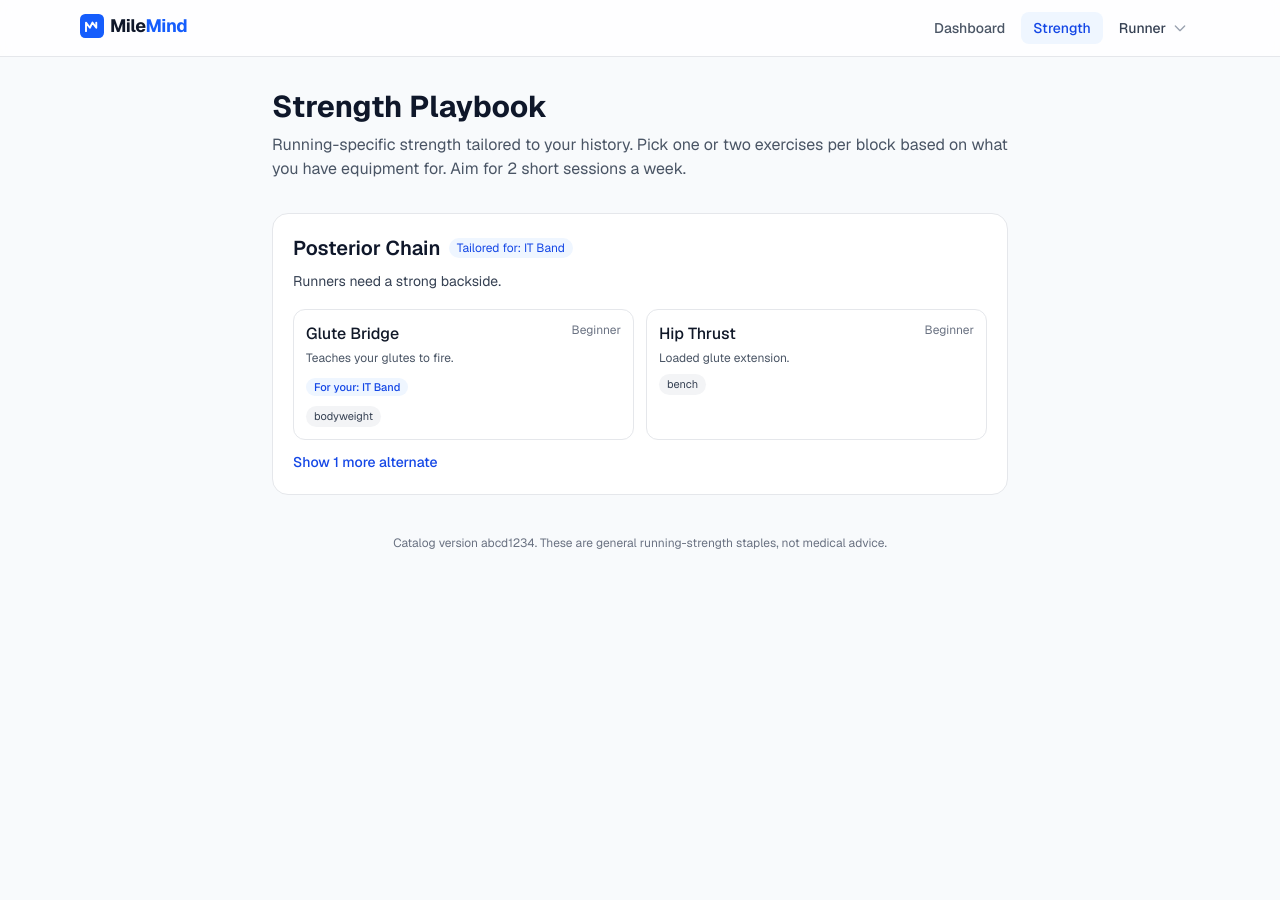
Test case: StrengthPage › shows the first two exercises by default and hides the rest behind a toggle
Expected: the link "Glute Bridge" is shown, [306,322,399,346]
Expected: the link "Hip Thrust" is shown, [659,322,736,346]
Click the button "Show 1 more alternate".
click(365, 462)  # box [293,452,438,472]
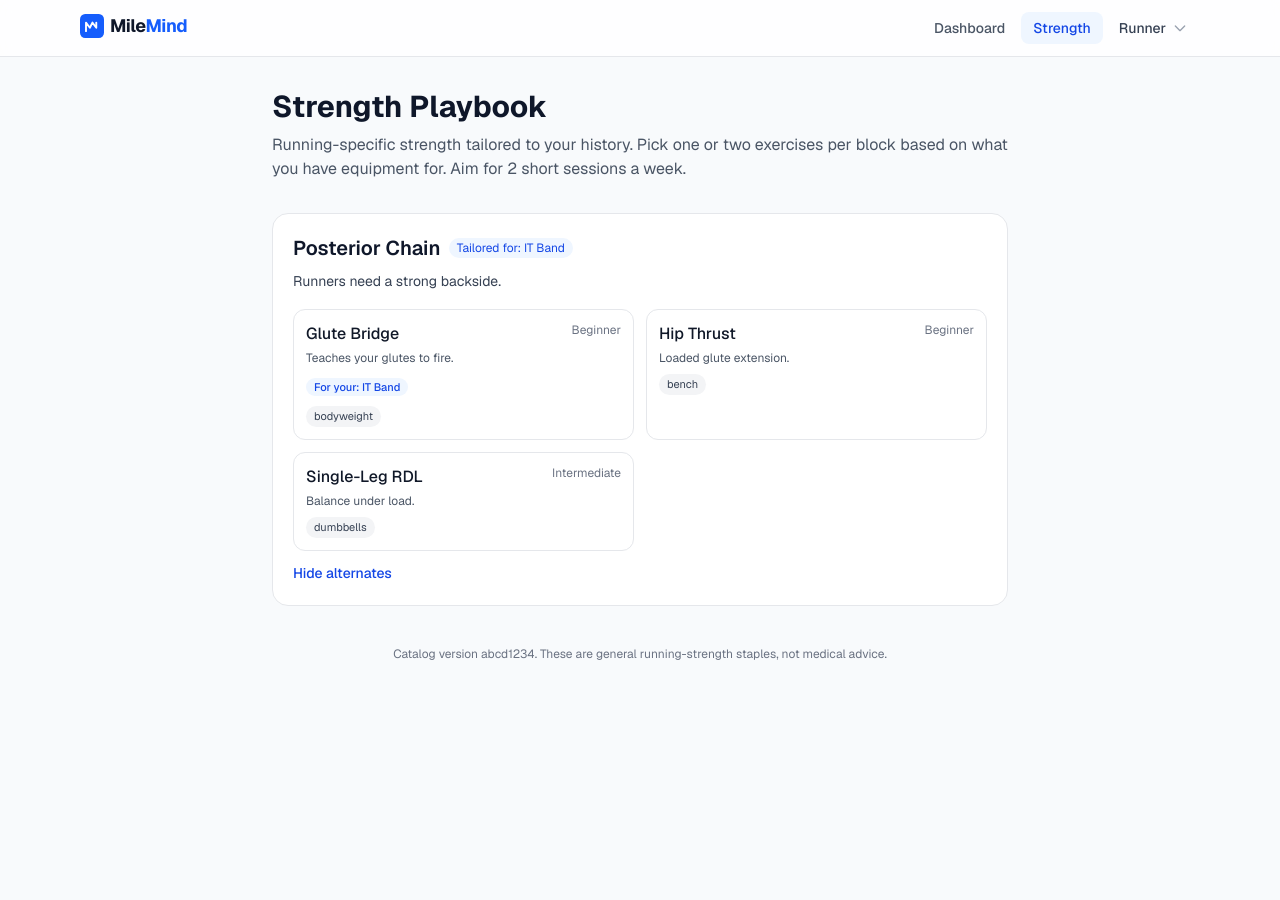
Expected: the link "Single-Leg RDL" is shown, [306,465,423,489]
Expected: the button "Hide alternates" is shown, [293,563,392,583]
